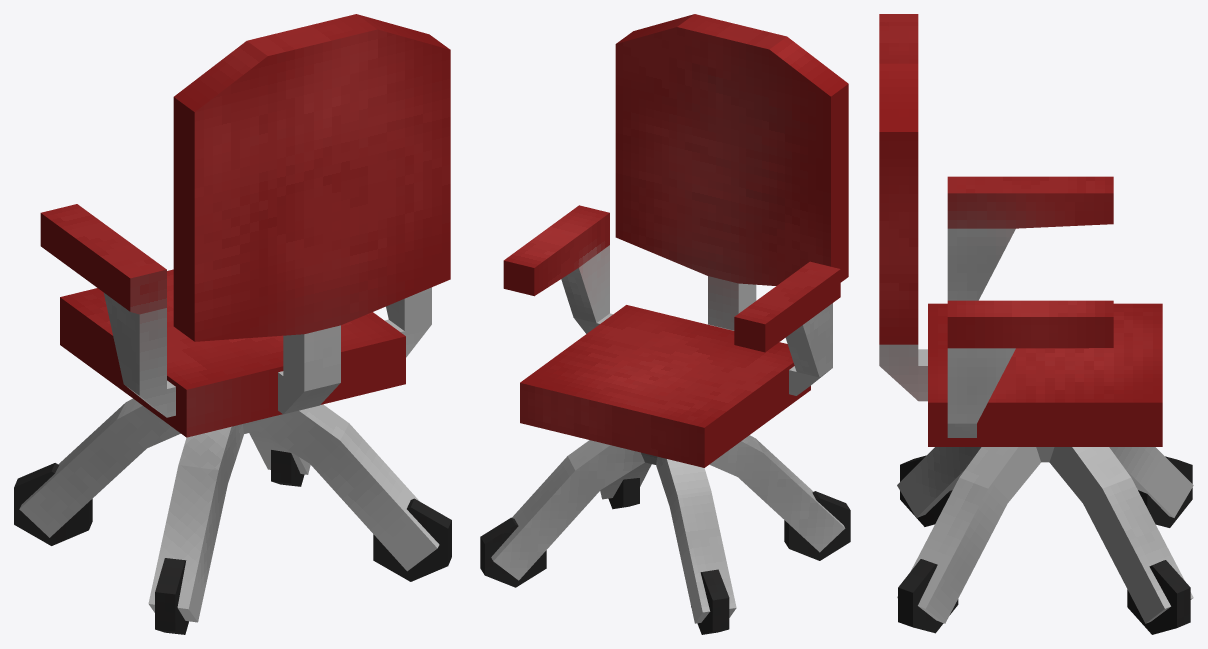
Rendered from spinnyChair.gltf.
The picture shows the model from 3 angles, left to right: view 1: azimuth 30°, elevation 25°; view 2: azimuth 150°, elevation 25°; view 3: azimuth 270°, elevation 25°; orthographic projection. The views are drawn at different scales.
Parts seen in each view (by area): view 1: seat, spider, wheel (×4); view 2: seat, spider, wheel (×4); view 3: seat, spider, wheel (×4).
Part boxes in pixels (bbox=[...]): seat: bbox=[40, 14, 450, 437]; spider: bbox=[19, 398, 439, 622]; wheel (×4): bbox=[14, 450, 451, 634]; seat: bbox=[503, 14, 848, 467]; spider: bbox=[491, 435, 845, 623]; wheel (×4): bbox=[480, 478, 850, 634]; seat: bbox=[879, 14, 1162, 446]; spider: bbox=[897, 447, 1193, 623]; wheel (×4): bbox=[898, 455, 1192, 634].
Bounding box in the file's own units: 1.06 × 1.9 × 1.01.
Materials: 1 (1 with a texture image).
